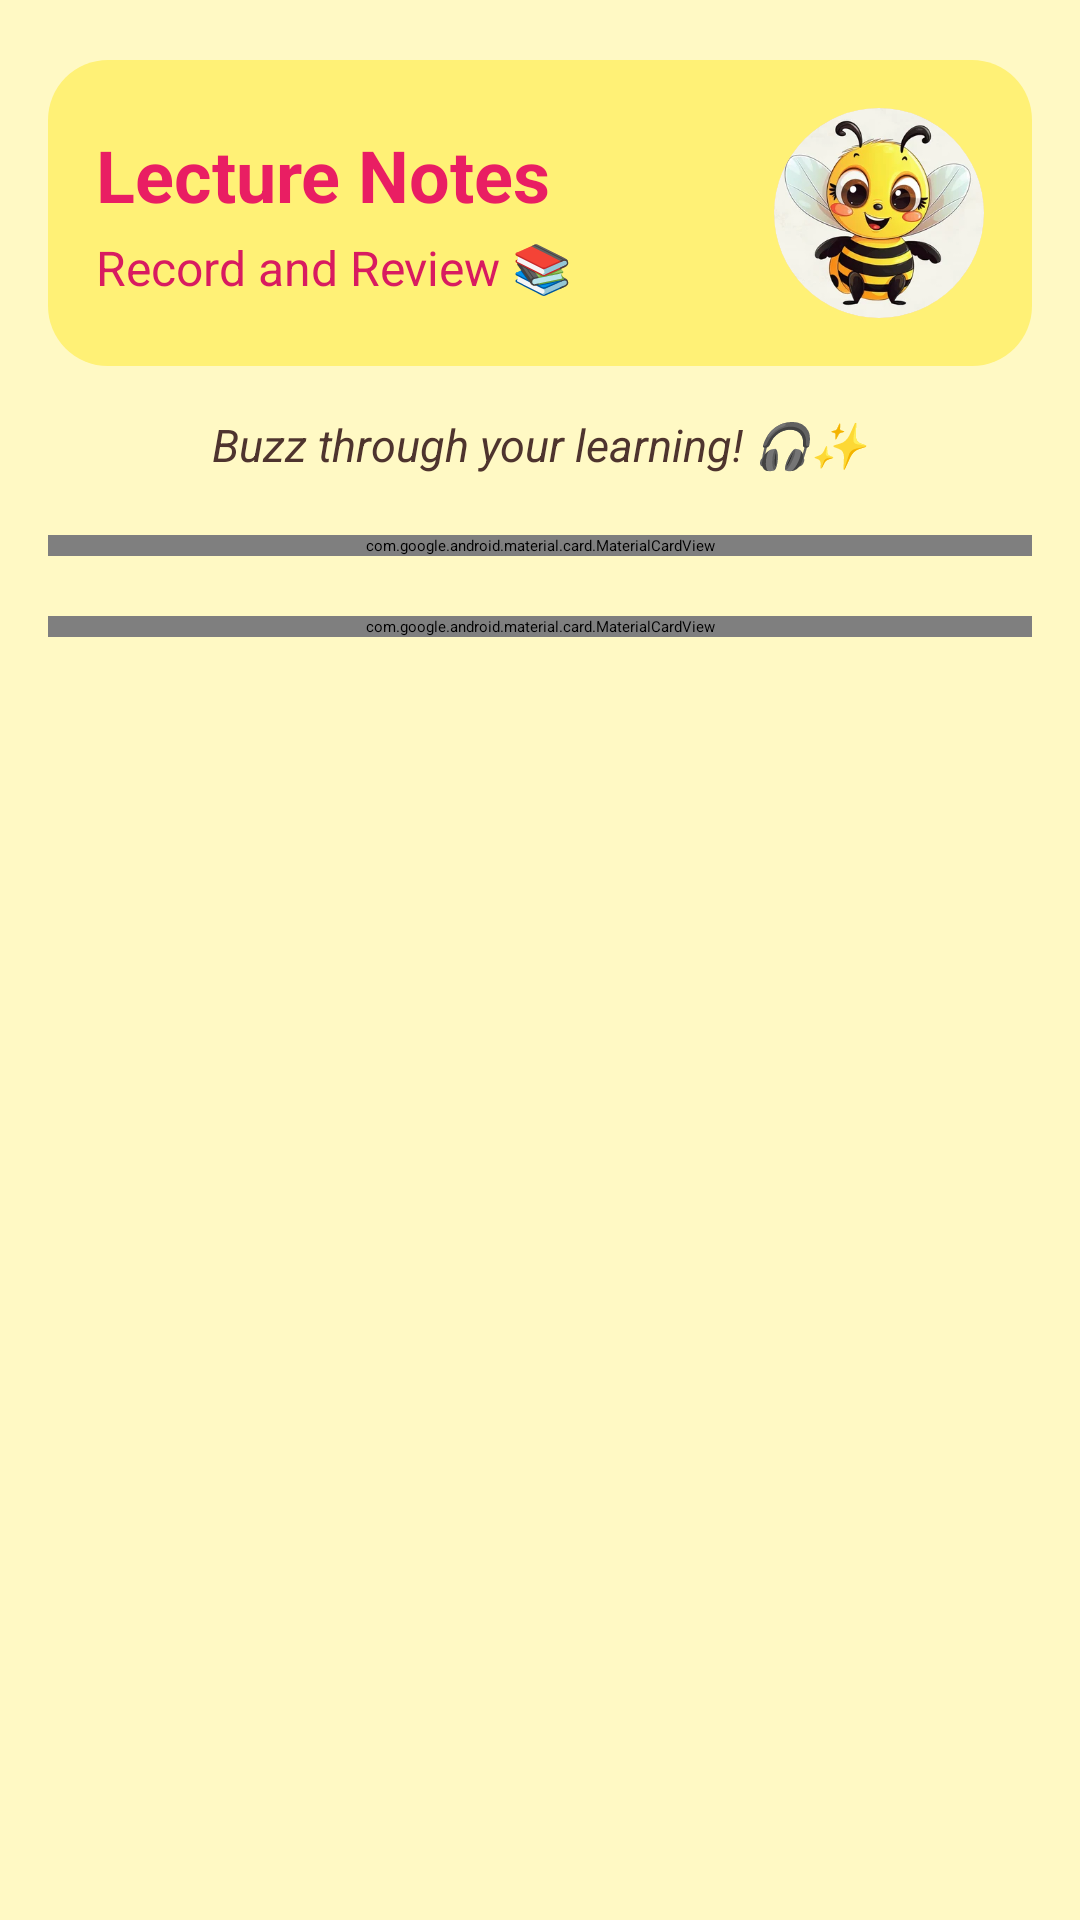

Icons on this 1080w x 1920h Android screen, each with the point to tap as (x,y):
Bee icon: (879,213)
